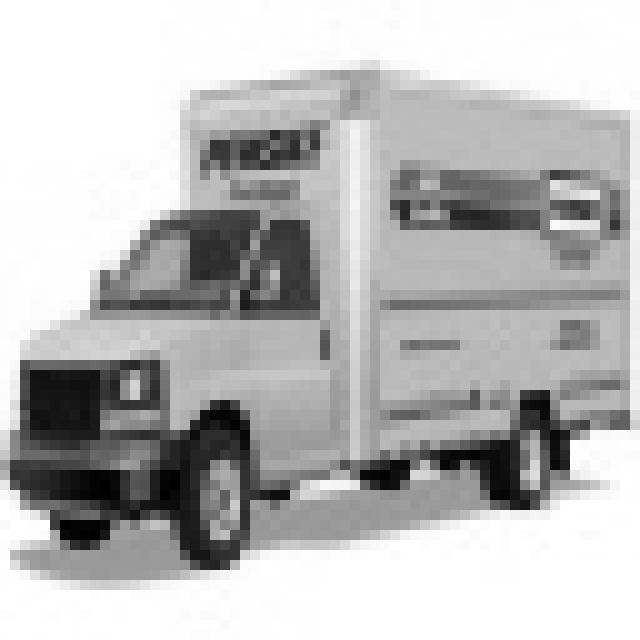trucks: (9, 60, 637, 568)
